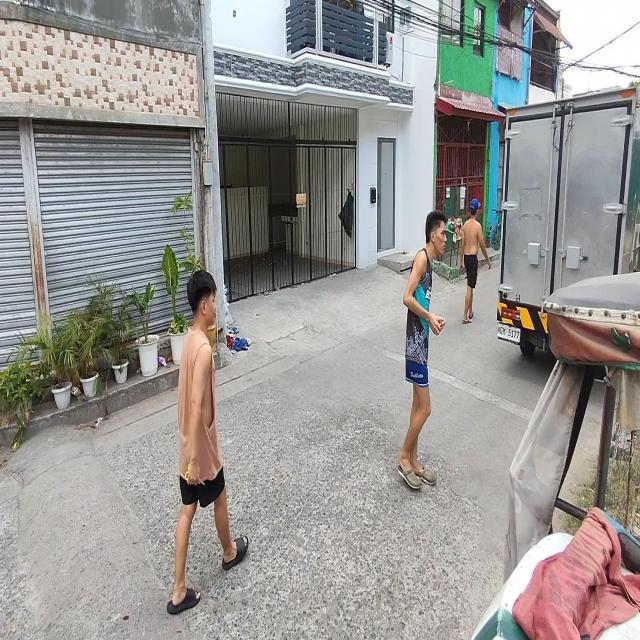scissor: (186, 463, 206, 486)
